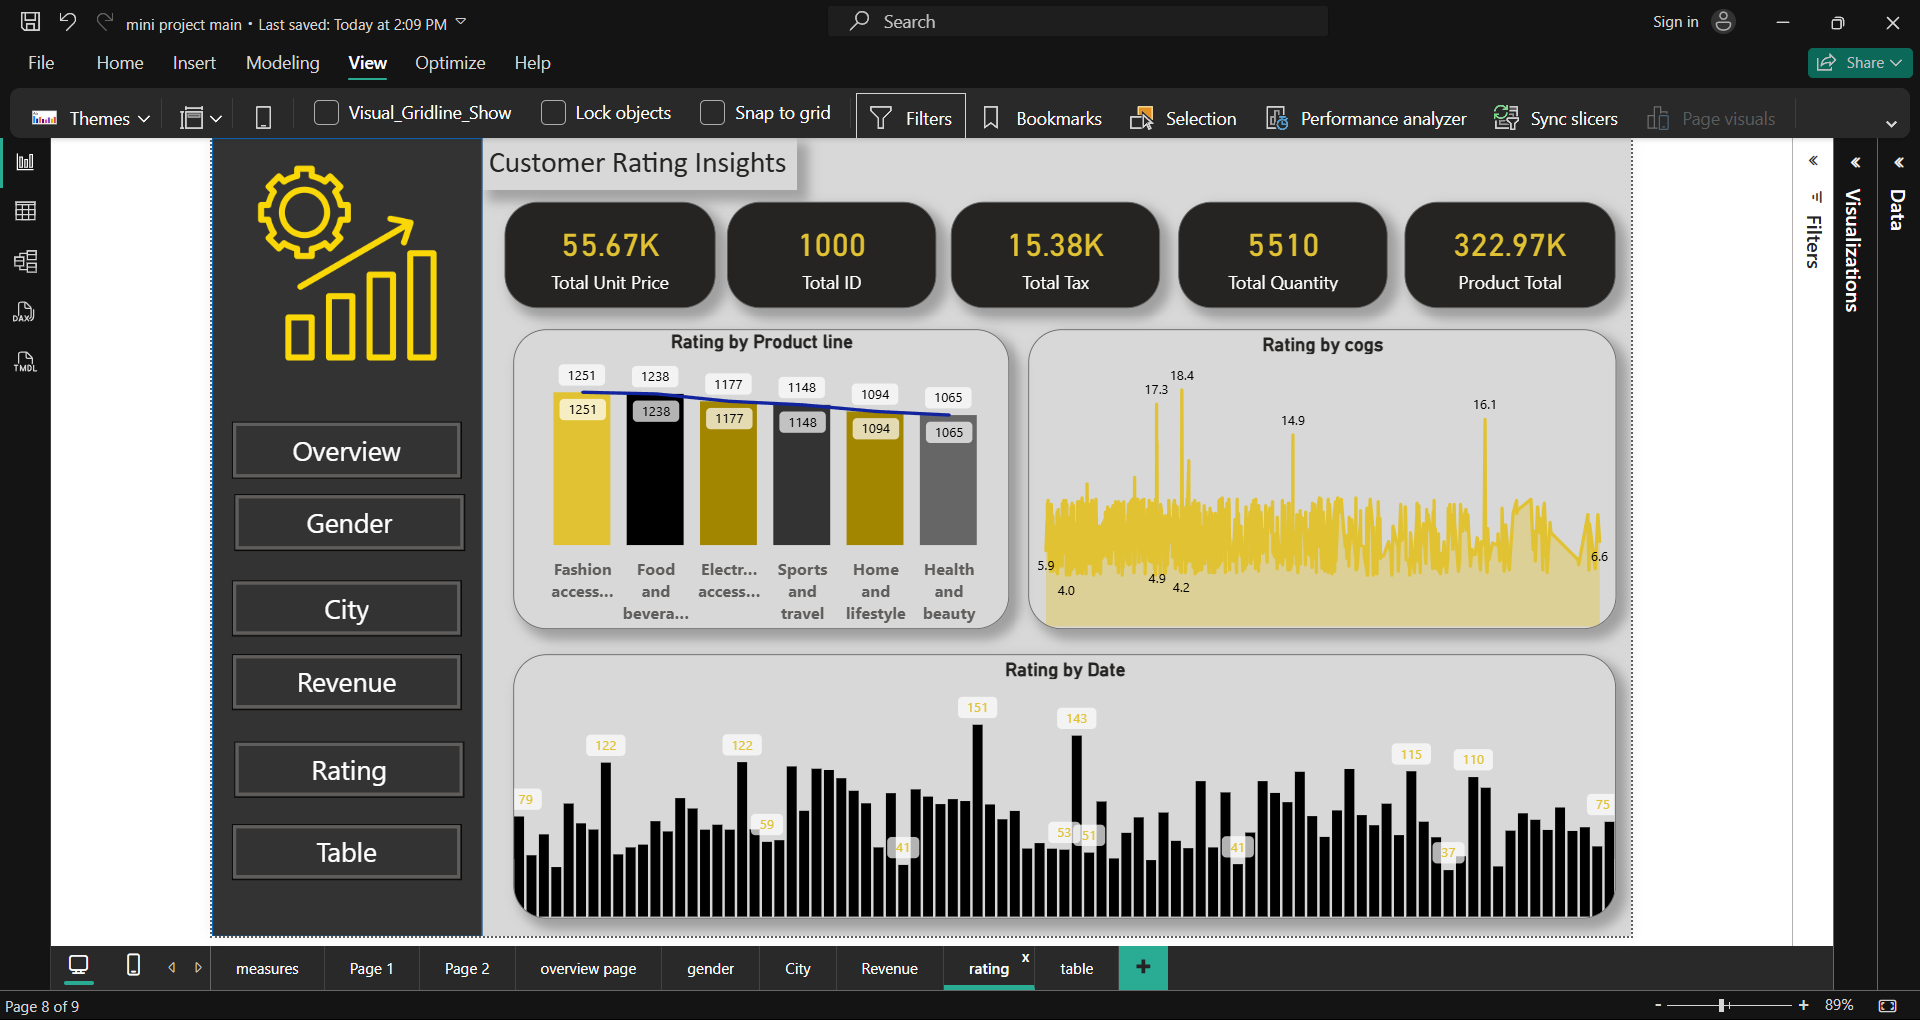

What the dashboard file says about the page in this screenshot:
{"tool":"powerbi","page":{"name":"rating","canvas":[1280,720],"ordinal":7},"visuals":[{"type":"shape","box":[0,0,243.8,720.3],"z":0},{"type":"textbox","box":[244.3,0,282.9,47.1],"z":1000},{"type":"card","fields":{"Values":["Sheet1.Product Total"]},"box":[1075.7,57.1,190,95.7],"z":2000},{"type":"card","fields":{"Values":["Sheet1.Total ID"]},"box":[464.3,57.1,188.6,95.7],"z":3000},{"type":"card","fields":{"Values":["Sheet1.Total Quantity"]},"box":[871.4,57.1,188.6,95.7],"z":4000},{"type":"card","fields":{"Values":["Sheet1.Total Tax"]},"box":[665.7,57.1,188.6,95.7],"z":5000},{"type":"card","fields":{"Values":["Sheet1.Total Unit Price"]},"box":[264.3,57.1,190,95.7],"z":6000},{"type":"actionButton","box":[18.6,255.7,207.1,51.4],"z":7000},{"type":"actionButton","box":[19.9,320.9,207.7,51],"z":8000},{"type":"image","box":[0,24.3,244.3,175.7],"z":9000},{"type":"actionButton","box":[18.6,398.6,207.1,50],"z":10000},{"type":"actionButton","box":[18.6,465.7,207.1,50],"z":11000},{"type":"actionButton","box":[20,544.3,207.1,50],"z":12000},{"type":"actionButton","box":[18.6,618.6,207.1,50],"z":13000},{"type":"lineClusteredColumnComboChart","title":"Rating by Product line","fields":{"Category":["Sheet1.Product line"],"Y":["Sum(Sheet1.Rating)"],"Y2":["Sum(Sheet1.Rating)"]},"box":[271.4,172.9,447.1,270],"z":14000},{"type":"lineStackedColumnComboChart","title":"Rating by Date","fields":{"Y":["Sum(Sheet1.Rating)"],"Category":["Sheet1.Date"]},"box":[271.4,465.7,994.3,238.6],"z":15000},{"type":"areaChart","title":"Rating by cogs","fields":{"Category":["Sheet1.cogs"],"Y":["Sum(Sheet1.Rating)"]},"box":[735.7,172.9,530,270],"z":16000}]}

Visuals, with their boxes on the page's 1280x720 design canvas (x1, y1, x2, y2). These are canvas units, not pixel positions in the 1920x1020 screenshot, which may show the page scaled, cropped or inside an application window:
shape: rect(0, 0, 244, 720)
textbox: rect(244, 0, 527, 47)
card - Sheet1.Product Total: rect(1076, 57, 1266, 153)
card - Sheet1.Total ID: rect(464, 57, 653, 153)
card - Sheet1.Total Quantity: rect(871, 57, 1060, 153)
card - Sheet1.Total Tax: rect(666, 57, 854, 153)
card - Sheet1.Total Unit Price: rect(264, 57, 454, 153)
actionButton: rect(19, 256, 226, 307)
actionButton: rect(20, 321, 228, 372)
image: rect(0, 24, 244, 200)
actionButton: rect(19, 399, 226, 449)
actionButton: rect(19, 466, 226, 516)
actionButton: rect(20, 544, 227, 594)
actionButton: rect(19, 619, 226, 669)
"Rating by Product line" lineClusteredColumnComboChart: rect(271, 173, 718, 443)
"Rating by Date" lineStackedColumnComboChart: rect(271, 466, 1266, 704)
"Rating by cogs" areaChart: rect(736, 173, 1266, 443)
